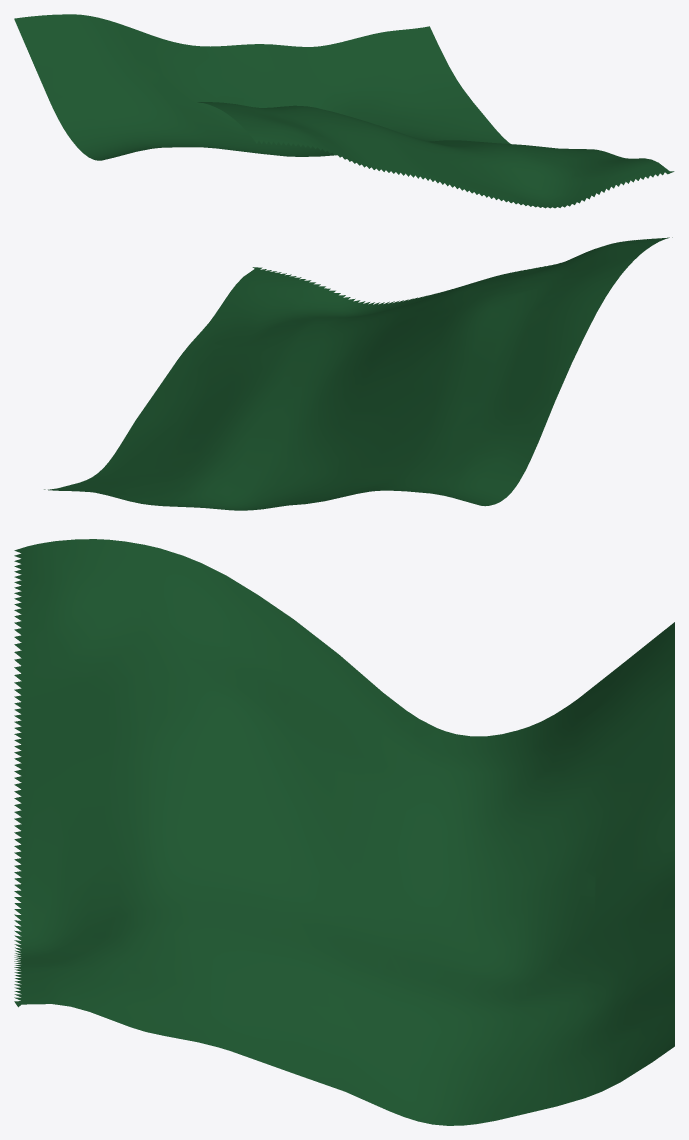
The model's file is payo_land_xm3_y1_lod2.glb.
3 renders of one model, top to bottom at view 1: azimuth 30°, elevation 25°; view 2: azimuth 150°, elevation 25°; view 3: azimuth 270°, elevation 25°, orthographic. The views are drawn at different scales.
Parts seen in each view (by area): view 1: payo_land_xm3_y1; view 2: payo_land_xm3_y1; view 3: payo_land_xm3_y1.
Boxes of the visible parts, left/top/right/bottom form: payo_land_xm3_y1: left=14, top=14, right=674, bottom=208; payo_land_xm3_y1: left=44, top=237, right=672, bottom=510; payo_land_xm3_y1: left=14, top=539, right=674, bottom=1125.
Size of the model in its own units: 257 by 134 by 258.
